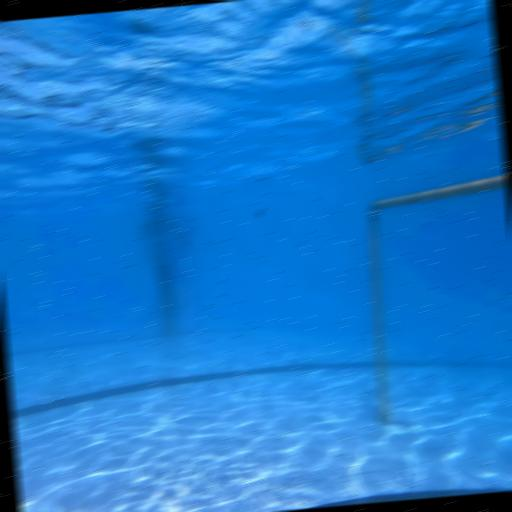gate: (355, 174, 512, 426)
